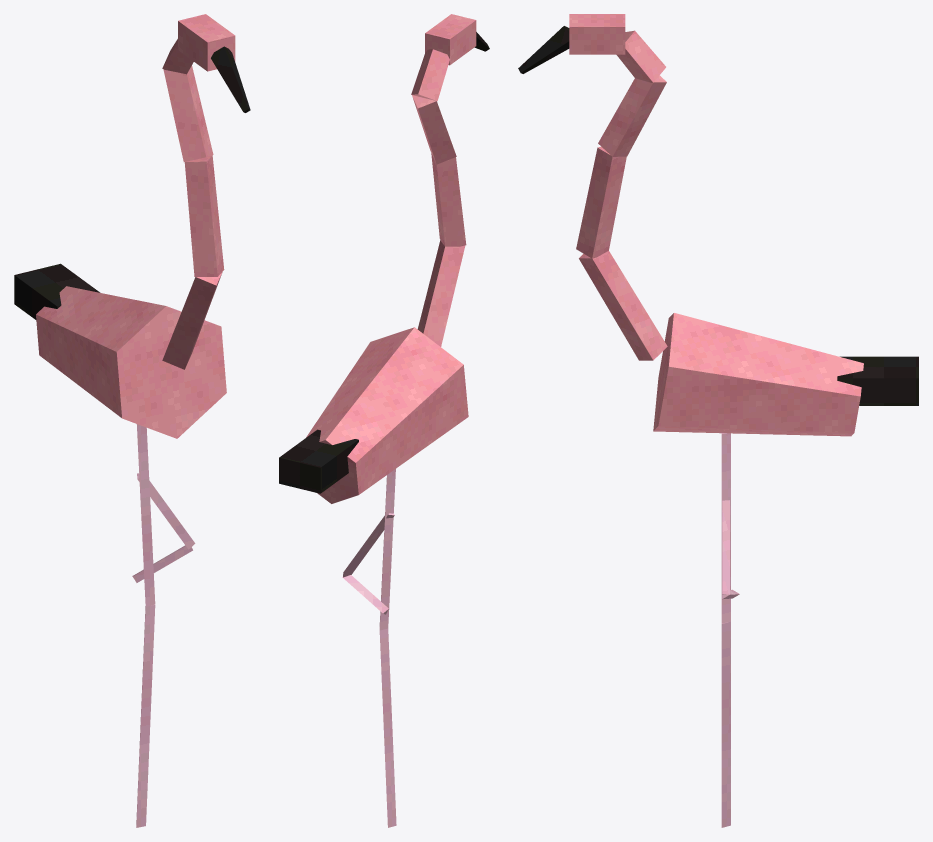
The model's file is flamenco.obj.
3 views of the same model, side by side, from view 1: azimuth 30°, elevation 25°; view 2: azimuth 150°, elevation 25°; view 3: azimuth 270°, elevation 25° (orthographic). The views are drawn at different scales.
Parts seen in each view (by area): view 1: flamenco; view 2: flamenco; view 3: flamenco.
Part boxes in pixels (x1,y1,x2,y2): flamenco: (14, 14, 250, 827); flamenco: (279, 14, 489, 827); flamenco: (518, 14, 918, 827).
Size of the model in its own units: 0.2299 by 1.74 by 0.785.
Materials: 3 (3 with a texture image).
